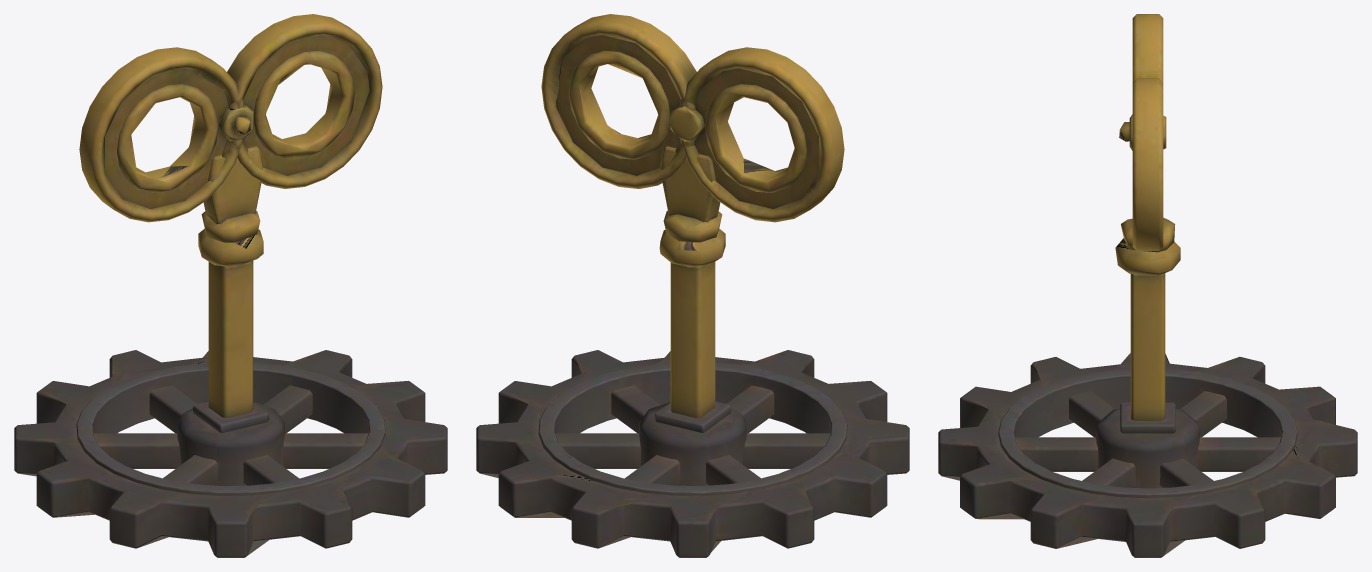
The model's file is wind-up-key.low.glb.
The picture shows the model from 3 angles, left to right: view 1: azimuth 30°, elevation 25°; view 2: azimuth 150°, elevation 25°; view 3: azimuth 270°, elevation 25°; orthographic projection. The views are drawn at different scales.
Visible parts, largest first — view 1: wind-up-key; view 2: wind-up-key; view 3: wind-up-key.
Part boxes in pixels (x1=…): wind-up-key: x1=14, y1=14, x2=447, y2=557; wind-up-key: x1=476, y1=14, x2=909, y2=557; wind-up-key: x1=938, y1=14, x2=1357, y2=557.
Bounding box in the file's own units: 0.7978 × 0.875 × 0.7978.
Materials: 1 (1 with a texture image).
